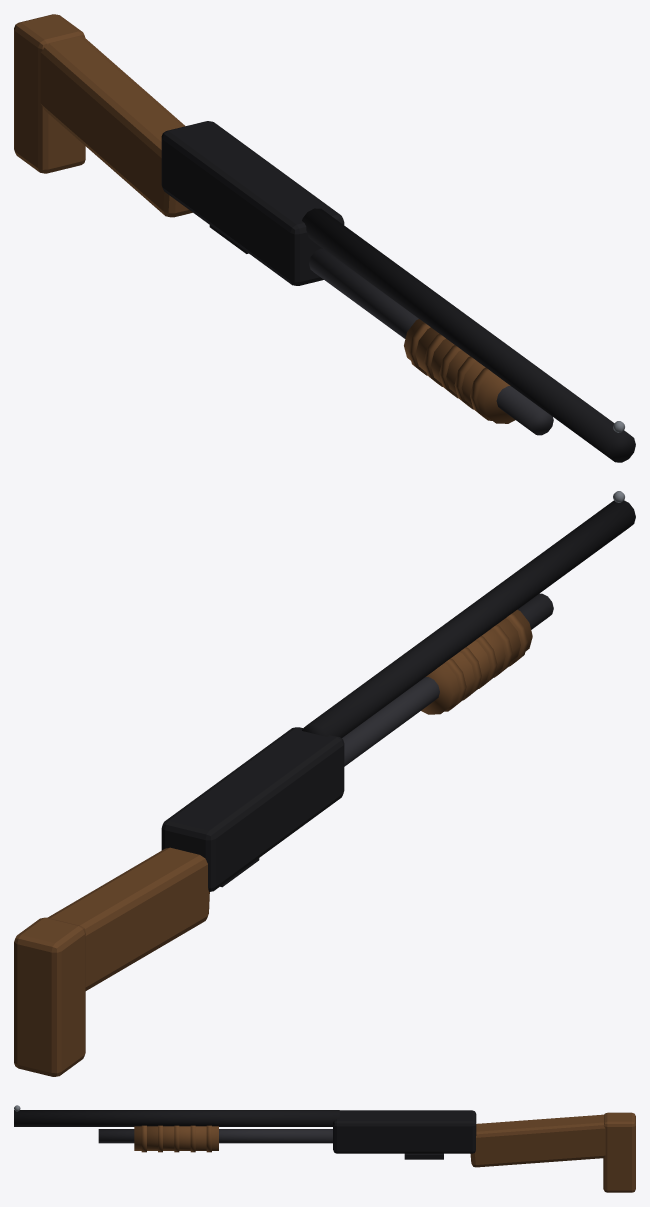
File: shotgun.glb
3 views of the same model, one above another, from view 1: azimuth 30°, elevation 25°; view 2: azimuth 150°, elevation 25°; view 3: azimuth 270°, elevation 25° (orthographic). The views are drawn at different scales.
Visible parts, largest first — view 1: shotgun; view 2: shotgun; view 3: shotgun.
Boxes of the visible parts, box(x1,y1,x2,y2) form: shotgun: box(14, 14, 635, 462); shotgun: box(14, 491, 635, 1076); shotgun: box(14, 1105, 635, 1192).
Bounding box in the file's own units: 0.05 × 0.14 × 0.955.
